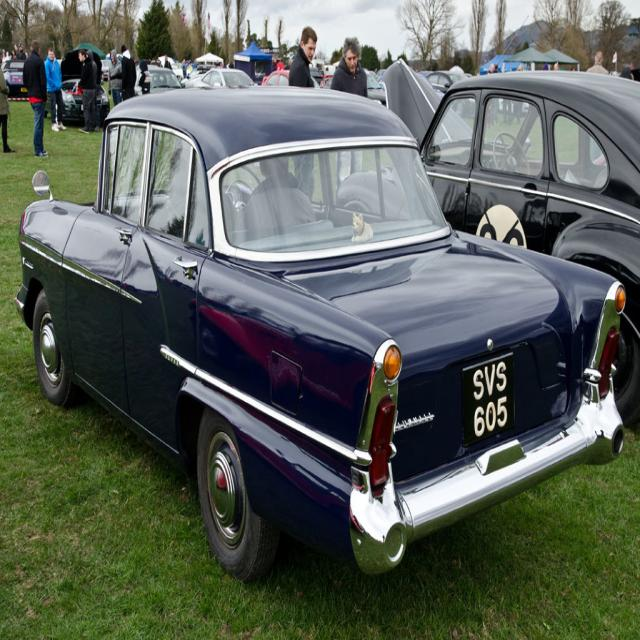car: (7, 85, 630, 620)
